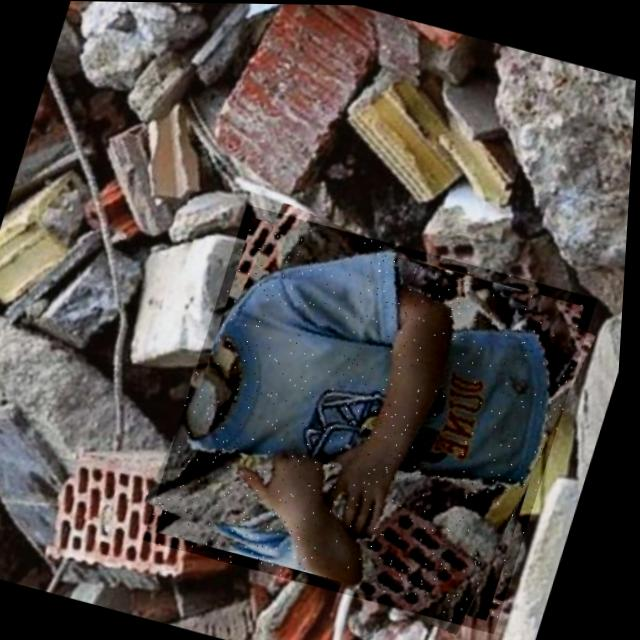Person in Rubble: (145, 202, 605, 632)
